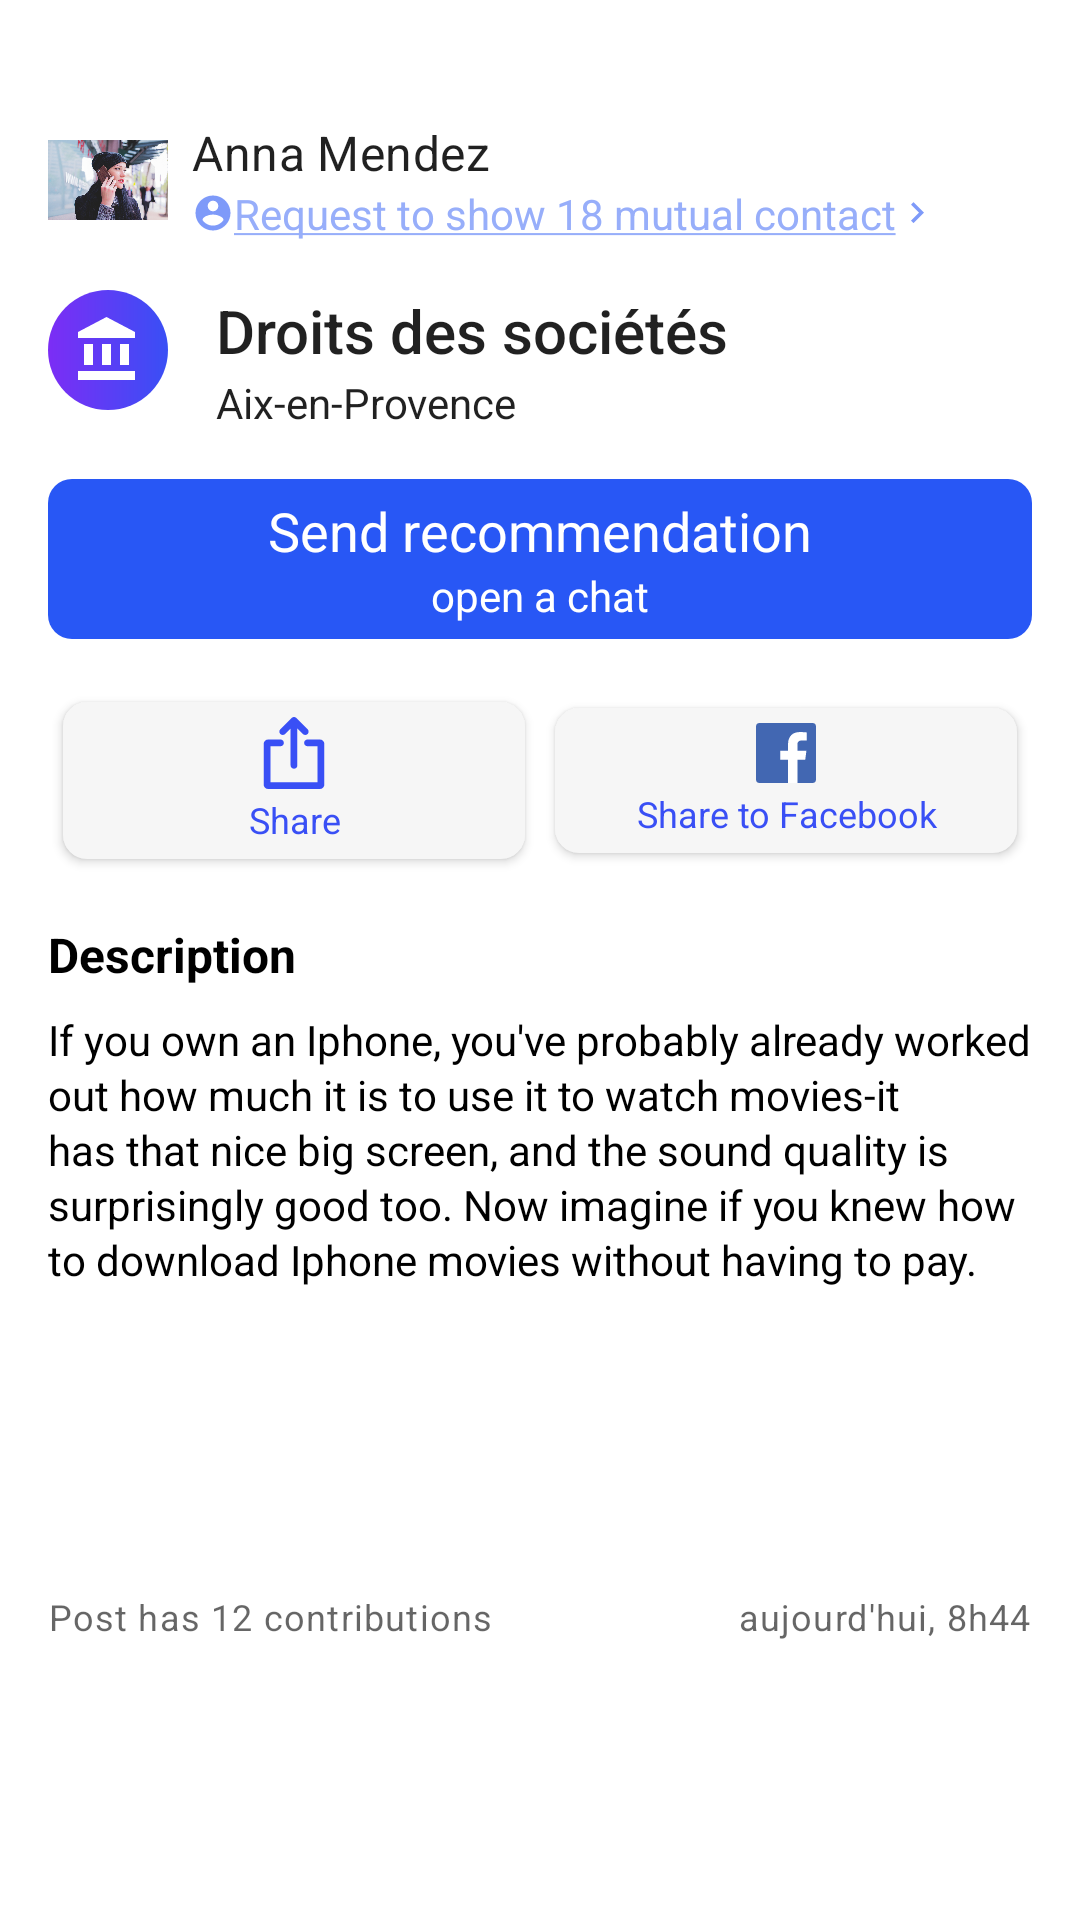

Named icons in this screenshot (1080w x 1920h) and their centers, point (x, y):
account balance: point (108, 350)
woman: point (108, 180)
